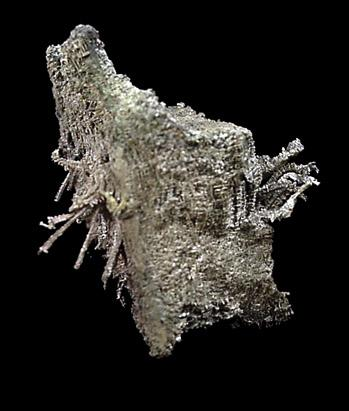silver: (38, 25, 319, 359)
